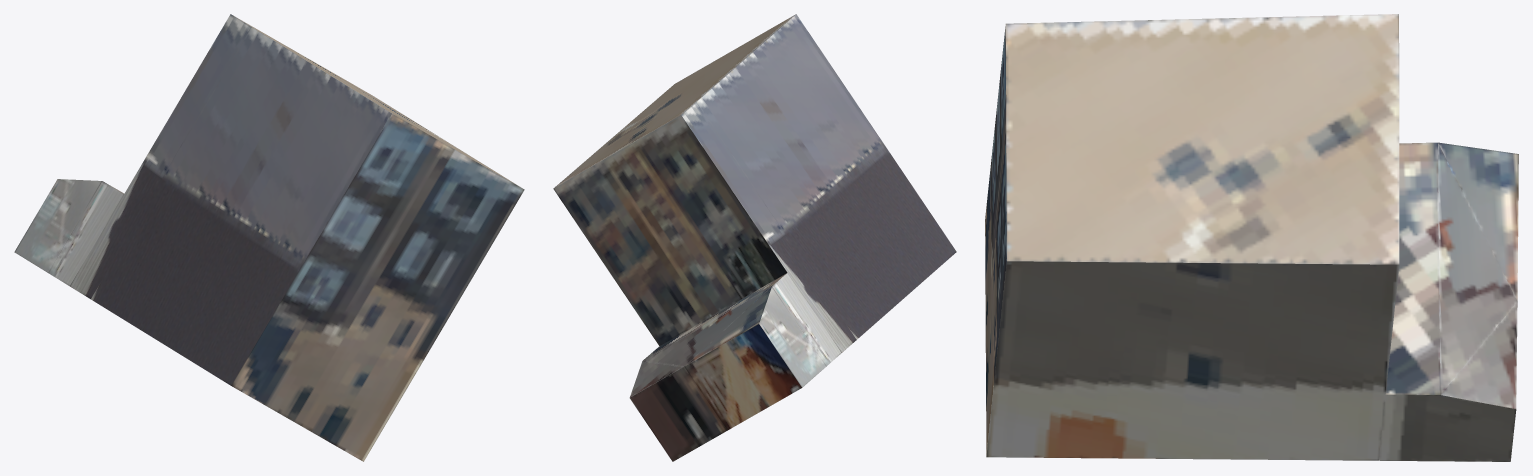
3 views of the same model, side by side, from view 1: azimuth 30°, elevation 25°; view 2: azimuth 150°, elevation 25°; view 3: azimuth 270°, elevation 25° (orthographic). The views are drawn at different scales.
Parts seen in each view (by area): view 1: BAG_0599100000767287 (×4); view 2: BAG_0599100000767287 (×4); view 3: BAG_0599100000767287 (×4).
Part boxes in pixels (bbox=[...]): BAG_0599100000767287 (×4): bbox=[14, 14, 524, 461]; BAG_0599100000767287 (×4): bbox=[553, 14, 956, 461]; BAG_0599100000767287 (×4): bbox=[985, 14, 1518, 461].
Size of the model in its own units: 17.04 by 17.26 by 17.73.
1 material, 1 textured.
